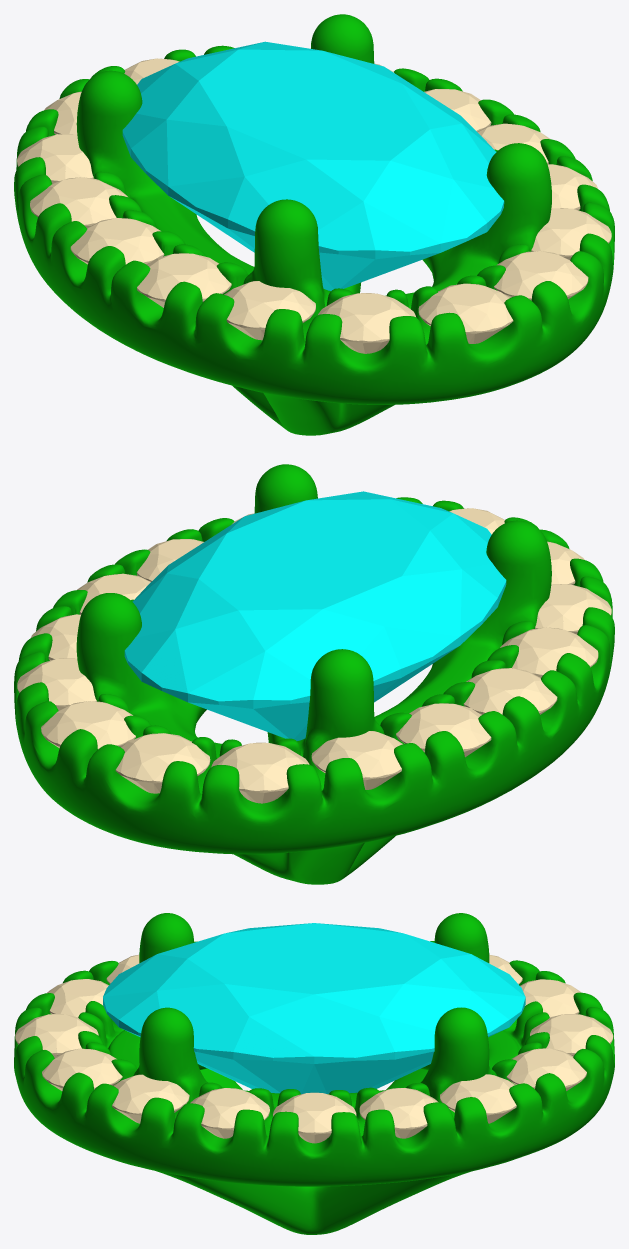
3 renders of one model, top to bottom at view 1: azimuth 30°, elevation 25°; view 2: azimuth 150°, elevation 25°; view 3: azimuth 270°, elevation 25°, orthographic. The views are drawn at different scales.
Visible parts, largest first — view 1: Metal01, Diamond_Oval, Diamond_Round.001, Diamond_Round, Diamond_Round.002, Diamond_Round.015, Diamond_Round.014, Diamond_Round.013, Diamond_Round.012, Diamond_Round.003, Diamond_Round.011, Diamond_Round.004 (+4 smaller); view 2: Metal01, Diamond_Oval, Diamond_Round.009, Diamond_Round.010, Diamond_Round.011, Diamond_Round.012, Diamond_Round.008, Diamond_Round.013, Diamond_Round.014, Diamond_Round.007, Diamond_Round.015, Diamond_Round.006 (+4 smaller); view 3: Metal01, Diamond_Oval, Diamond_Round.005, Diamond_Round.004, Diamond_Round.006, Diamond_Round.008, Diamond_Round.002, Diamond_Round.003, Diamond_Round.007, Diamond_Round.001, Diamond_Round.009, Diamond_Round (+1 smaller).
Part boxes in pixels (box(x1,y1,x2,y2)): Metal01: box(14, 14, 614, 435); Diamond_Oval: box(122, 41, 504, 290); Diamond_Round.001: box(418, 283, 513, 343); Diamond_Round: box(318, 293, 415, 353); Diamond_Round.002: box(494, 251, 588, 300); Diamond_Round.015: box(224, 281, 315, 340); Diamond_Round.014: box(137, 253, 231, 307); Diamond_Round.013: box(70, 218, 164, 264); Diamond_Round.012: box(30, 177, 127, 227); Diamond_Round.003: box(531, 208, 611, 259); Diamond_Round.011: box(17, 134, 93, 183); Diamond_Round.004: box(547, 164, 597, 210); Metal01: box(14, 464, 614, 884); Diamond_Oval: box(124, 491, 506, 740); Diamond_Round.009: box(115, 733, 210, 793); Diamond_Round.010: box(211, 742, 309, 803); Diamond_Round.011: box(311, 731, 402, 789); Diamond_Round.012: box(396, 703, 491, 757); Diamond_Round.008: box(41, 701, 135, 749); Diamond_Round.013: box(463, 668, 557, 714); Diamond_Round.014: box(500, 627, 598, 677); Diamond_Round.007: box(17, 658, 96, 710); Diamond_Round.015: box(535, 584, 611, 634); Diamond_Round.006: box(31, 614, 80, 660); Metal01: box(14, 913, 614, 1234); Diamond_Oval: box(103, 923, 525, 1094); Diamond_Round.005: box(273, 1092, 356, 1143); Diamond_Round.004: box(190, 1088, 269, 1138); Diamond_Round.006: box(359, 1088, 438, 1138); Diamond_Round.008: box(506, 1048, 586, 1090); Diamond_Round.002: box(42, 1048, 122, 1090); Diamond_Round.003: box(112, 1074, 189, 1123); Diamond_Round.007: box(440, 1074, 516, 1123); Diamond_Round.001: box(15, 1014, 98, 1057); Diamond_Round.009: box(530, 1014, 613, 1056); Diamond_Round: box(47, 979, 108, 1017).
Bounding box in the file's own units: 8.88 × 5.65 × 11.54.
